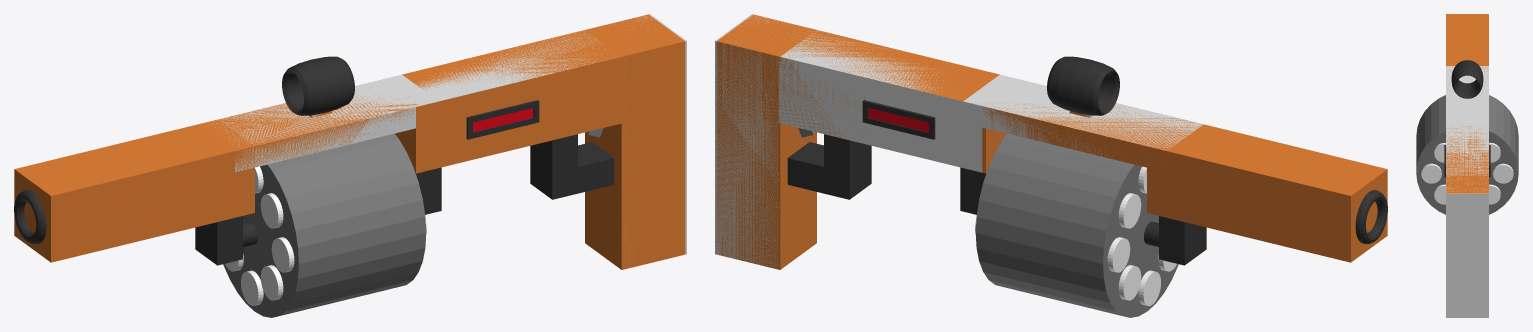
Rendered from BallGatling.glb.
3 renders of one model, left to right at view 1: azimuth 30°, elevation 25°; view 2: azimuth 150°, elevation 25°; view 3: azimuth 270°, elevation 25°, orthographic. The views are drawn at different scales.
Parts seen in each view (by area): view 1: Cube.006, Cylinder, Cube.013, Cube.002, Cube.003, Mire, Cube.009, CadrantLife, ForwardPart, Cube.008, Cylinder.005, Cylinder.006 (+4 smaller); view 2: Cube.006, Cylinder, Cube.002, Cube.012, Cube.013, Cube.003, Mire, Cube.009, CadrantLife, ForwardPart, Cube.008, Cylinder.003 (+4 smaller); view 3: Cube.012, Cube.006, Cylinder, Cube.002, Cube.013, Mire, Cylinder.003, Cylinder.005, Cylinder.007, Cylinder.008, Cylinder.002, Cylinder.006 (+1 smaller).
Boxes of the visible parts, <box> form: Cube.006: <box>14,14,685,269</box>; Cylinder: <box>223,133,426,317</box>; Cube.013: <box>212,74,429,171</box>; Cube.002: <box>407,30,606,114</box>; Cube.003: <box>530,134,614,199</box>; Mire: <box>282,56,354,115</box>; Cube.009: <box>195,216,242,265</box>; CadrantLife: <box>466,100,539,139</box>; ForwardPart: <box>14,190,46,243</box>; Cube.008: <box>416,167,441,214</box>; Cylinder.005: <box>271,220,426,272</box>; Cylinder.006: <box>260,193,283,228</box>; Cube.006: <box>716,14,1387,269</box>; Cylinder: <box>975,133,1178,317</box>; Cube.002: <box>778,31,982,172</box>; Cube.012: <box>715,14,811,268</box>; Cube.013: <box>963,74,1203,159</box>; Cube.003: <box>787,134,871,199</box>; Mire: <box>1047,56,1119,115</box>; Cube.009: <box>1159,216,1206,265</box>; CadrantLife: <box>862,100,935,139</box>; ForwardPart: <box>1355,190,1387,243</box>; Cube.008: <box>960,167,985,214</box>; Cylinder.003: <box>975,220,1130,272</box>; Cube.012: <box>1446,176,1488,317</box>; Cube.006: <box>1446,14,1488,193</box>; Cylinder: <box>1416,95,1518,214</box>; Cube.002: <box>1446,118,1488,175</box>; Cube.013: <box>1446,66,1488,123</box>; Mire: <box>1451,60,1483,98</box>; Cylinder.003: <box>1493,163,1513,183</box>; Cylinder.005: <box>1421,163,1441,183</box>; Cylinder.007: <box>1489,184,1500,204</box>; Cylinder.008: <box>1434,184,1445,204</box>; Cylinder.002: <box>1489,143,1500,162</box>; Cylinder.006: <box>1434,143,1445,162</box>.
Bounding box in the file's own units: 5.05 × 1.99 × 1.2.
